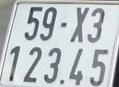-: (60, 22, 68, 28)
.: (59, 79, 65, 84)
1: (8, 45, 22, 80)
2: (23, 47, 40, 82)
3: (42, 47, 60, 83), (88, 7, 105, 44)
4: (69, 48, 84, 85)
5: (89, 48, 109, 87), (24, 7, 42, 42)
9: (41, 7, 58, 42)
X: (70, 6, 88, 43)
